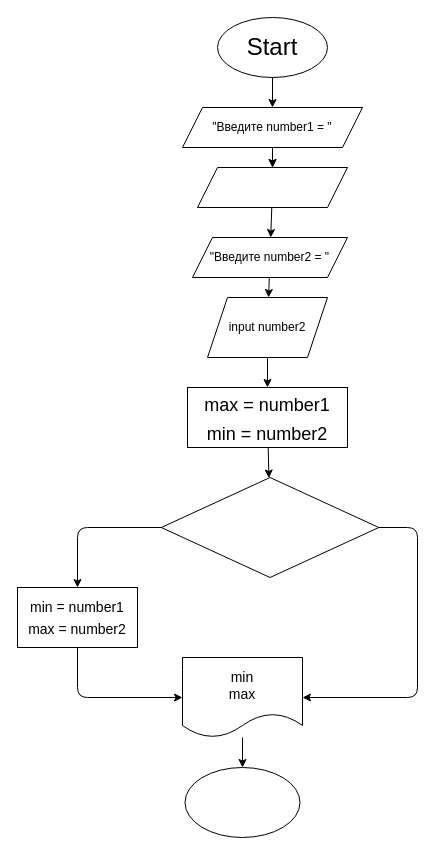
Some shapes in this 443 by 855 pixel diagram are drawn without their labels. Here are the shapes that lost their labels. From the top down, the box of each, then its label:
(196, 166, 348, 208): input number1
(160, 476, 379, 578): number1 > number2
(184, 766, 300, 838): End
